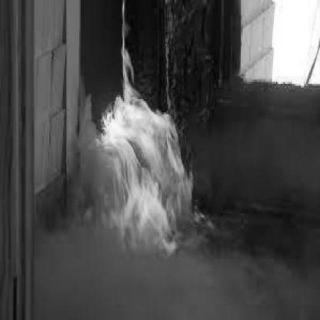Fire: (78, 9, 202, 248)
